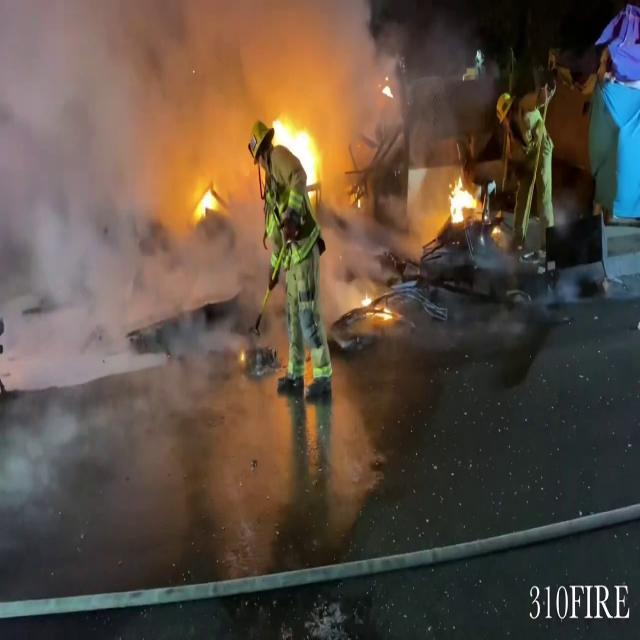Fire: (266, 104, 330, 199), (436, 173, 486, 233), (188, 176, 227, 222), (355, 286, 398, 324)
Smoke: (1, 0, 472, 323)
